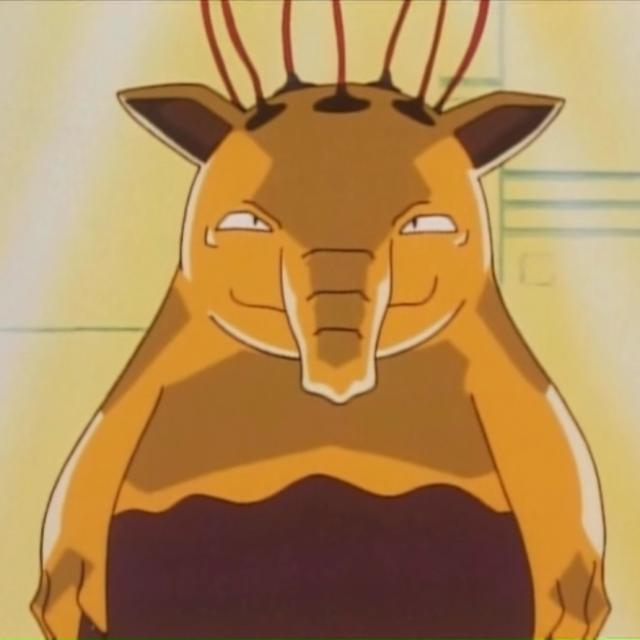Drowzee: (103, 66, 592, 640)
